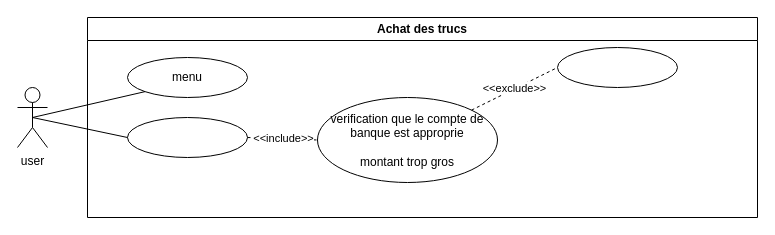
This 775x235 diagram has some shape labels left out. Each missing label, with the centre of its shape:
menu achat: point (187, 137)
refuts: point (617, 67)
